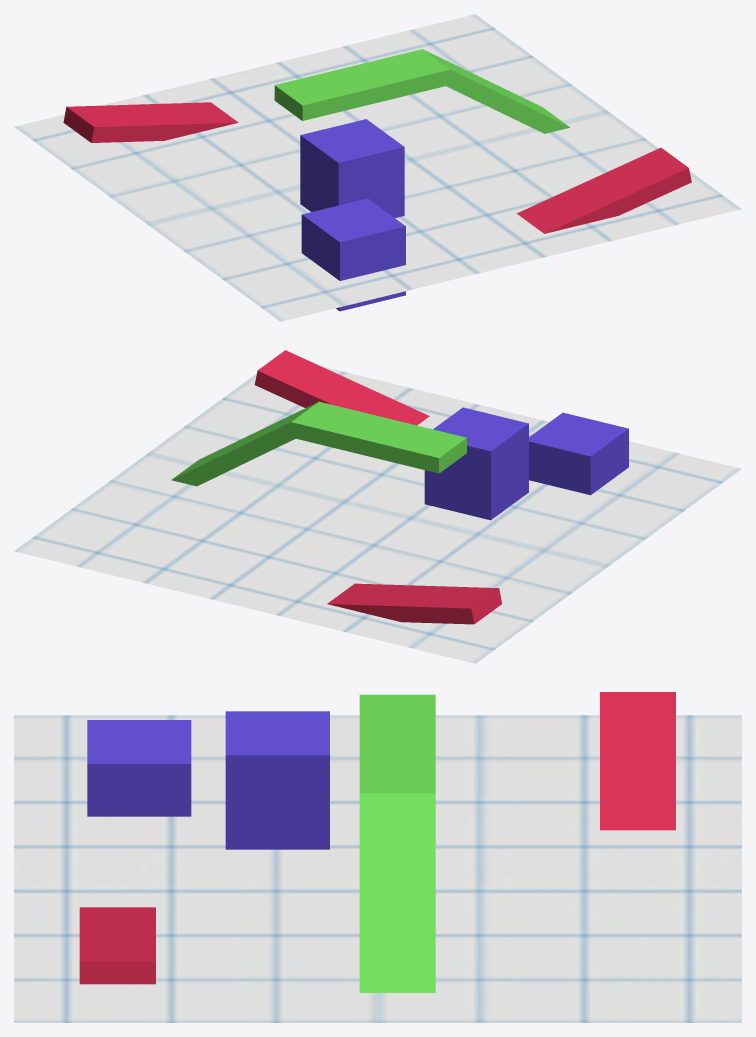
The model's file is TESTMAP.gltf.
3 views of the same model, one above another, from view 1: azimuth 30°, elevation 25°; view 2: azimuth 150°, elevation 25°; view 3: azimuth 270°, elevation 25° (orthographic). The views are drawn at different scales.
Parts seen in each view (by area): view 1: Cube, Cube.005, Cube.003, Cube.004, Cube.002, Cube.001, Cube.006; view 2: Cube, Cube.005, Cube.004, Cube.003, Cube.001, Cube.002, Cube.006; view 3: Cube, Cube.006, Cube.005, Cube.001, Cube.003, Cube.004, Cube.002.
Part boxes in pixels (bbox=[...]): Cube: bbox=[14, 14, 741, 321]; Cube.005: bbox=[300, 119, 404, 217]; Cube.003: bbox=[301, 198, 405, 311]; Cube.004: bbox=[274, 49, 449, 120]; Cube.002: bbox=[517, 147, 691, 233]; Cube.001: bbox=[63, 102, 238, 142]; Cube.006: bbox=[423, 49, 570, 133]; Cube: bbox=[14, 366, 741, 663]; Cube.005: bbox=[424, 407, 528, 520]; Cube.004: bbox=[291, 401, 466, 473]; Cube.003: bbox=[529, 412, 628, 495]; Cube.001: bbox=[327, 583, 501, 624]; Cube.002: bbox=[254, 350, 429, 425]; Cube.006: bbox=[171, 402, 318, 486]; Cube: bbox=[14, 715, 741, 1022]; Cube.006: bbox=[359, 793, 435, 992]; Cube.005: bbox=[225, 711, 329, 849]; Cube.001: bbox=[600, 692, 675, 830]; Cube.003: bbox=[87, 720, 191, 816]; Cube.004: bbox=[359, 694, 435, 793]; Cube.002: bbox=[79, 907, 155, 984].
Size of the model in its own units: 27.01 by 6.59 by 27.01.
4 materials, 1 textured.
